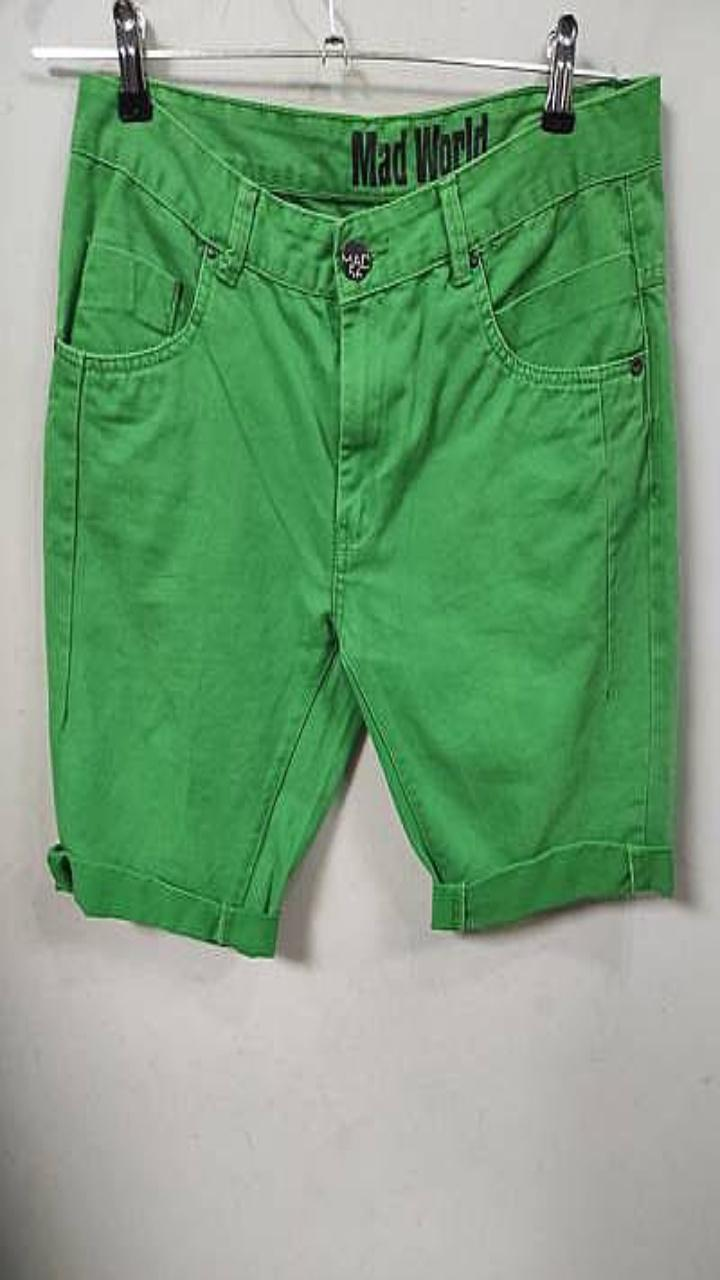Shorts: (43, 73, 678, 955)
